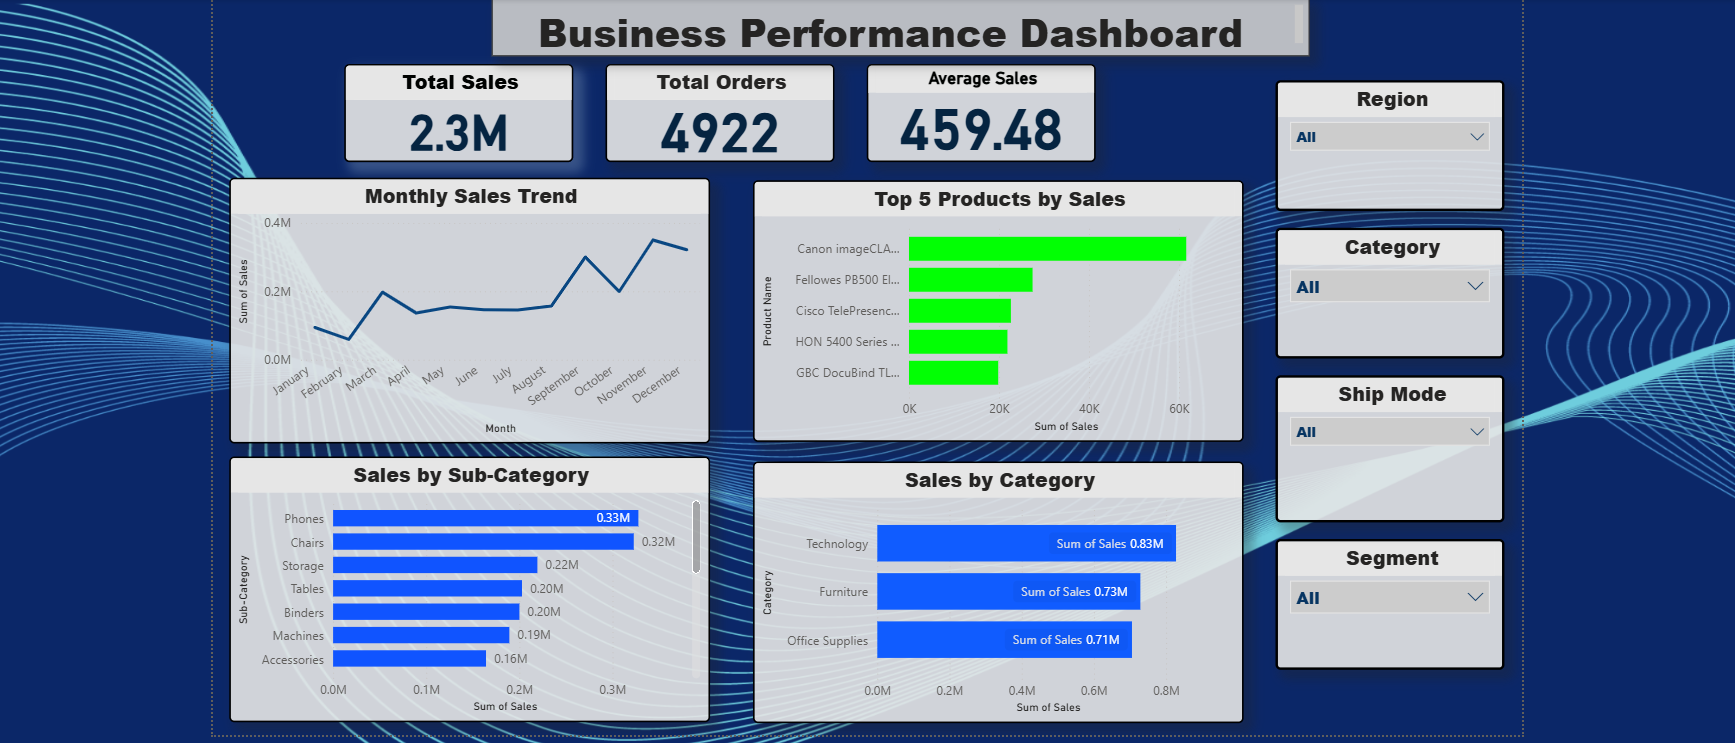

The page's visual inventory and layout, read from the dashboard file:
{"tool":"powerbi","page":{"name":"Page 1","canvas":[1280,720],"ordinal":0},"visuals":[{"type":"card","title":"Total Sales","fields":{"Values":["Sum(train.Sales)"]},"box":[128,64,224,96],"z":0},{"type":"card","title":"Total Orders","fields":{"Values":["Count(train.Order ID)"]},"box":[384,64,224,96],"z":1000},{"type":"card","title":"Average Sales","fields":{"Values":["train.Average Sales"]},"box":[640,64,224,96],"z":2000},{"type":"lineChart","title":" Monthly Sales Trend","fields":{"Category":["train.Order Date.Variation.Date Hierarchy.Month"],"Y":["Sum(train.Sales)"]},"box":[16,175,470,260],"z":3000},{"type":"clusteredBarChart","title":"Top 5 Products by Sales","fields":{"Category":["train.Product Name"],"Y":["Sum(train.Sales)"]},"box":[528,177,480,256],"z":4000},{"type":"clusteredBarChart","title":"Sales by Category","fields":{"Category":["train.Category"],"Y":["Sum(train.Sales)"]},"box":[528,452,480,256],"z":5000},{"type":"clusteredBarChart","title":"Sales by Sub-Category","fields":{"Category":["train.Sub-Category"],"Y":["Sum(train.Sales)"]},"box":[16,448,470,260],"z":6000},{"type":"slicer","title":"Region","fields":{"Values":["train.Region"]},"box":[1040,80,224,128],"z":7000},{"type":"slicer","title":"Category","fields":{"Values":["train.Category"]},"box":[1040,224,224,128],"z":8000},{"type":"slicer","title":"Segment","fields":{"Values":["train.Segment"]},"box":[1040,528,224,128],"z":9000},{"type":"slicer","title":"Ship Mode","fields":{"Values":["train.Ship Mode"]},"box":[1040,368,224,144],"z":10000},{"type":"textbox","box":[272.9,0,800,56],"z":11000}]}

Visuals, with their boxes in screenshot pixels (x1, y1, x2, y2):
"Total Sales" card: box(342, 60, 570, 158)
"Total Orders" card: box(602, 60, 829, 158)
"Average Sales" card: box(862, 60, 1089, 158)
" Monthly Sales Trend" lineChart: box(229, 173, 706, 437)
"Top 5 Products by Sales" clusteredBarChart: box(748, 175, 1235, 435)
"Sales by Category" clusteredBarChart: box(748, 454, 1235, 714)
"Sales by Sub-Category" clusteredBarChart: box(229, 450, 706, 714)
"Region" slicer: box(1268, 77, 1495, 207)
"Category" slicer: box(1268, 223, 1495, 353)
"Segment" slicer: box(1268, 531, 1495, 661)
"Ship Mode" slicer: box(1268, 369, 1495, 515)
textbox: box(489, 0, 1301, 52)
